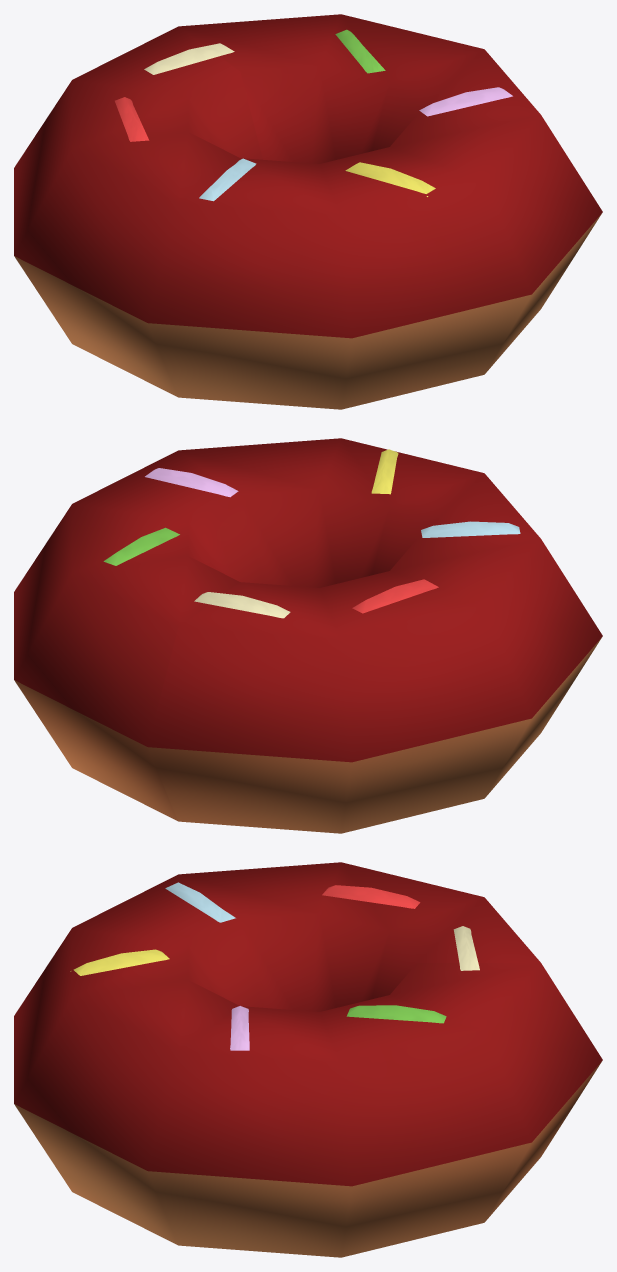
Rendered from Doughnut_C.FBX.
3 renders of one model, top to bottom at view 1: azimuth 30°, elevation 25°; view 2: azimuth 150°, elevation 25°; view 3: azimuth 270°, elevation 25°, orthographic.
Visible parts, largest first — view 1: Doughnut; view 2: Doughnut; view 3: Doughnut.
Boxes of the visible parts, x1,y1,x2,y2 form: Doughnut: (14, 14, 602, 409); Doughnut: (14, 438, 602, 833); Doughnut: (14, 862, 602, 1257).
Size of the model in its own units: 52.77 by 19.96 by 51.97.
